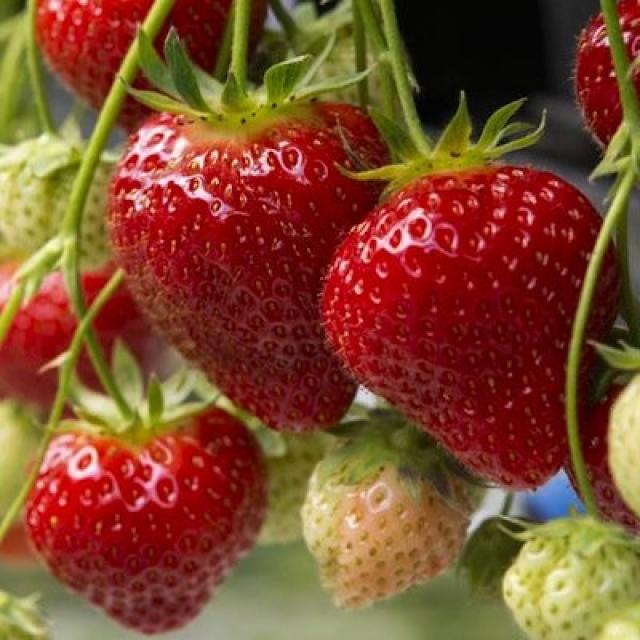strawberry: (318, 125, 640, 499), (91, 50, 370, 435), (22, 374, 269, 638), (31, 1, 294, 106), (3, 256, 158, 411), (566, 355, 638, 538), (576, 2, 638, 200)
